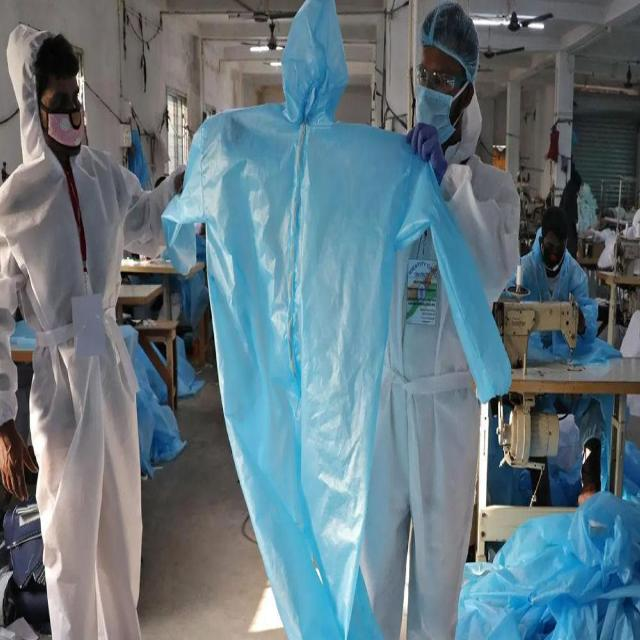Coverall: (6, 0, 206, 639), (344, 0, 523, 624)
Goggles: (407, 50, 465, 99)
Mask: (411, 81, 457, 149), (43, 100, 91, 162)
